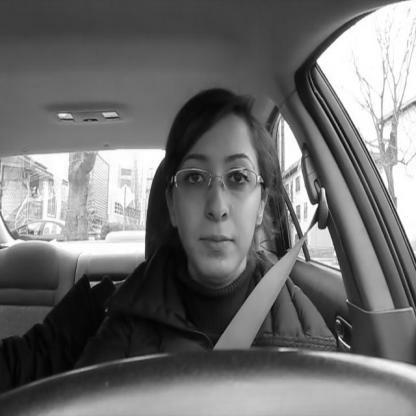seatbelt: (144, 61, 342, 349)
